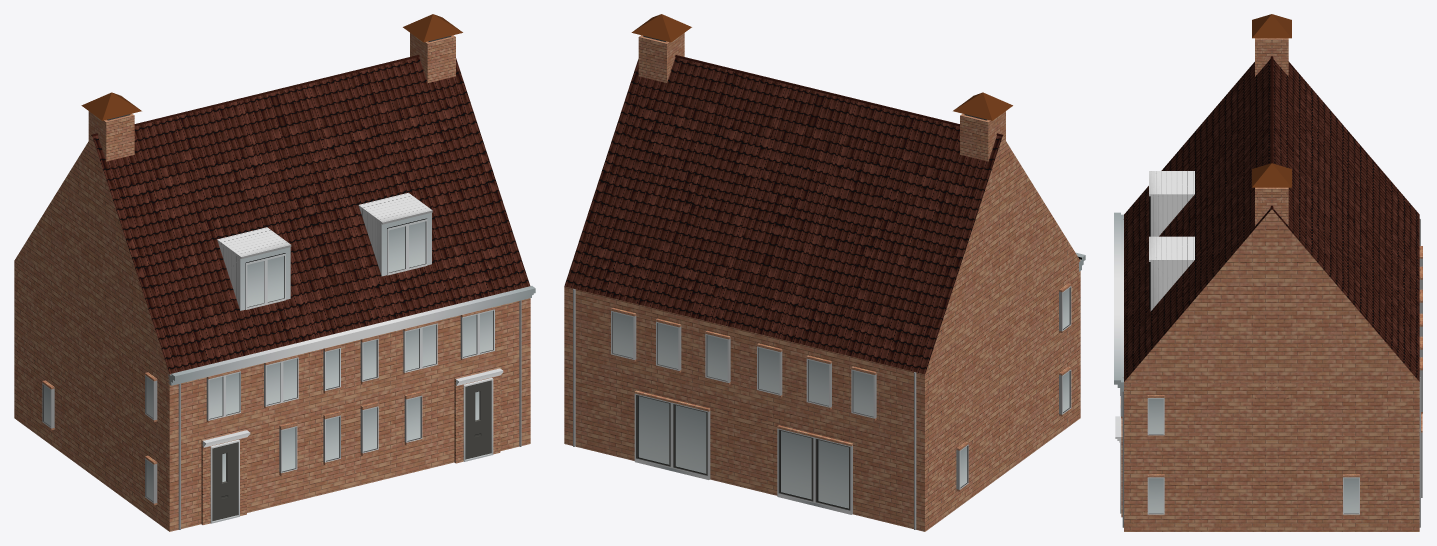
The model's file is It Stee 2-4.fbx.
3 renders of one model, left to right at view 1: azimuth 30°, elevation 25°; view 2: azimuth 150°, elevation 25°; view 3: azimuth 270°, elevation 25°, orthographic. The views are drawn at different scales.
Visible parts, largest first — view 1: It_Stee_2_4; view 2: It_Stee_2_4; view 3: It_Stee_2_4.
Boxes of the visible parts, bbox=[...] form: It_Stee_2_4: bbox=[14, 14, 535, 531]; It_Stee_2_4: bbox=[564, 14, 1085, 531]; It_Stee_2_4: bbox=[1114, 14, 1422, 531].
Size of the model in its own units: 12.02 by 11.81 by 9.19.
